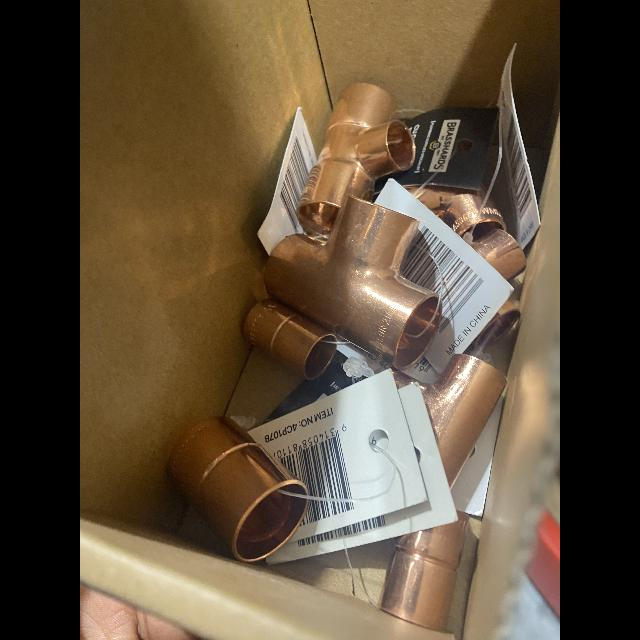Copper: (264, 196, 442, 369), (167, 417, 308, 562), (296, 84, 415, 236), (421, 354, 506, 488), (379, 514, 469, 632), (244, 299, 337, 379), (416, 183, 487, 236), (471, 229, 526, 280), (473, 300, 520, 348), (474, 197, 506, 240)
